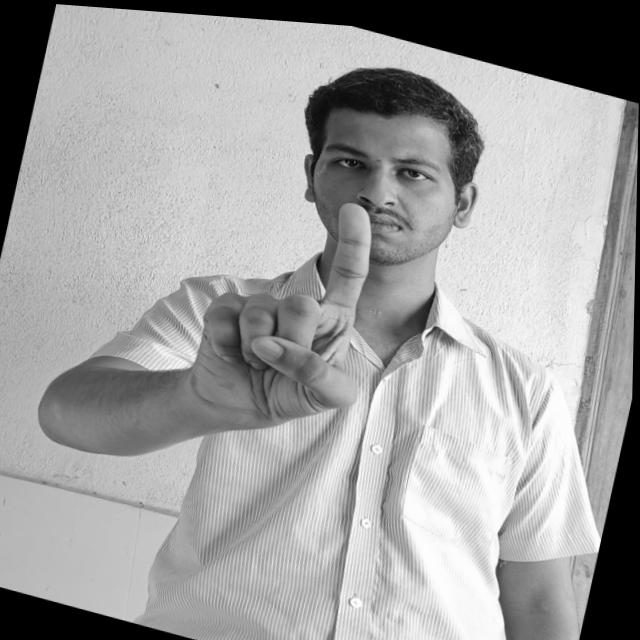Question: (179, 162, 397, 449)
